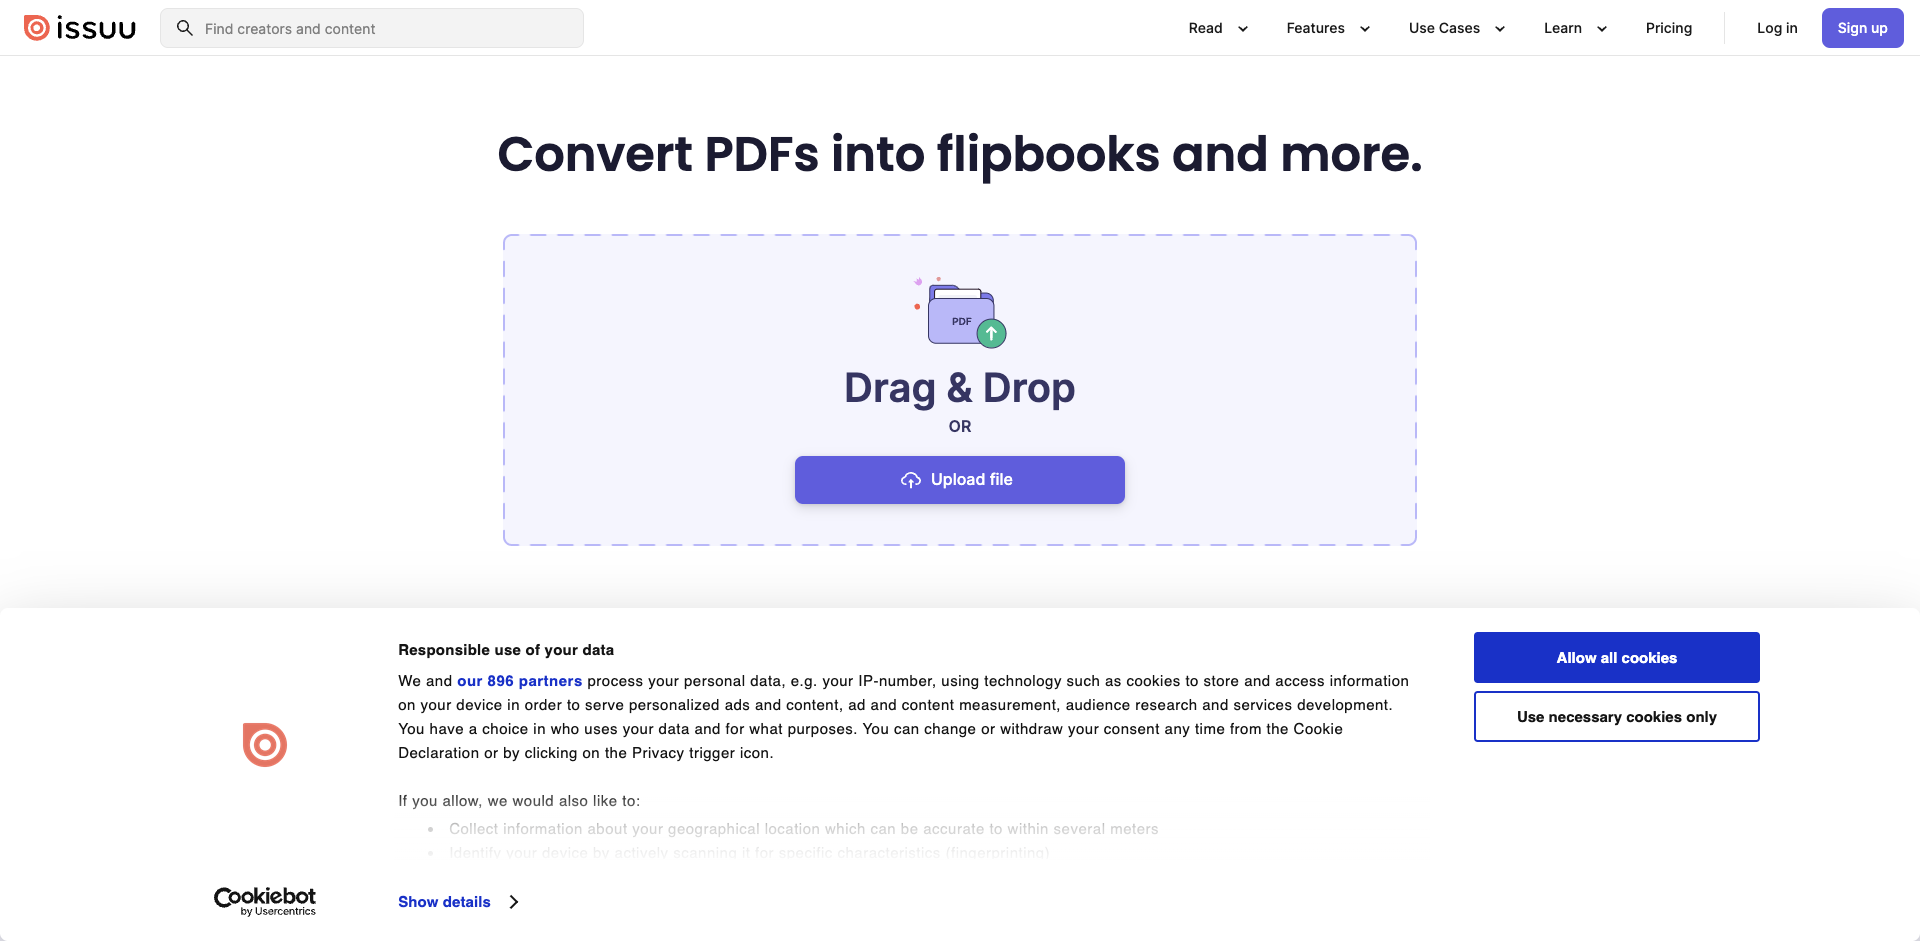button: (795, 456, 1125, 504), (1474, 691, 1760, 741), (1474, 632, 1760, 682), (1393, 0, 1528, 56), (1271, 0, 1393, 56), (1528, 0, 1630, 56), (1173, 0, 1271, 56), (931, 453, 1029, 506), (1822, 9, 1904, 48), (1630, 9, 1708, 48), (1822, 10, 1904, 47), (1630, 10, 1708, 47), (1741, 9, 1813, 48), (1741, 10, 1813, 47), (899, 468, 923, 491)
input: (204, 9, 576, 47)
label: (159, 7, 160, 9)
link: (178, 887, 353, 916), (398, 887, 517, 916), (16, 15, 144, 40), (457, 673, 583, 689), (1040, 871, 1152, 888), (1171, 620, 1249, 641)
